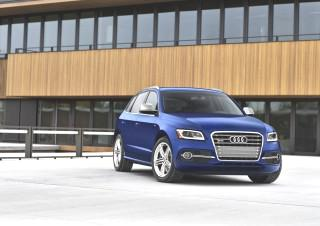Audi: (227, 134, 254, 146)
